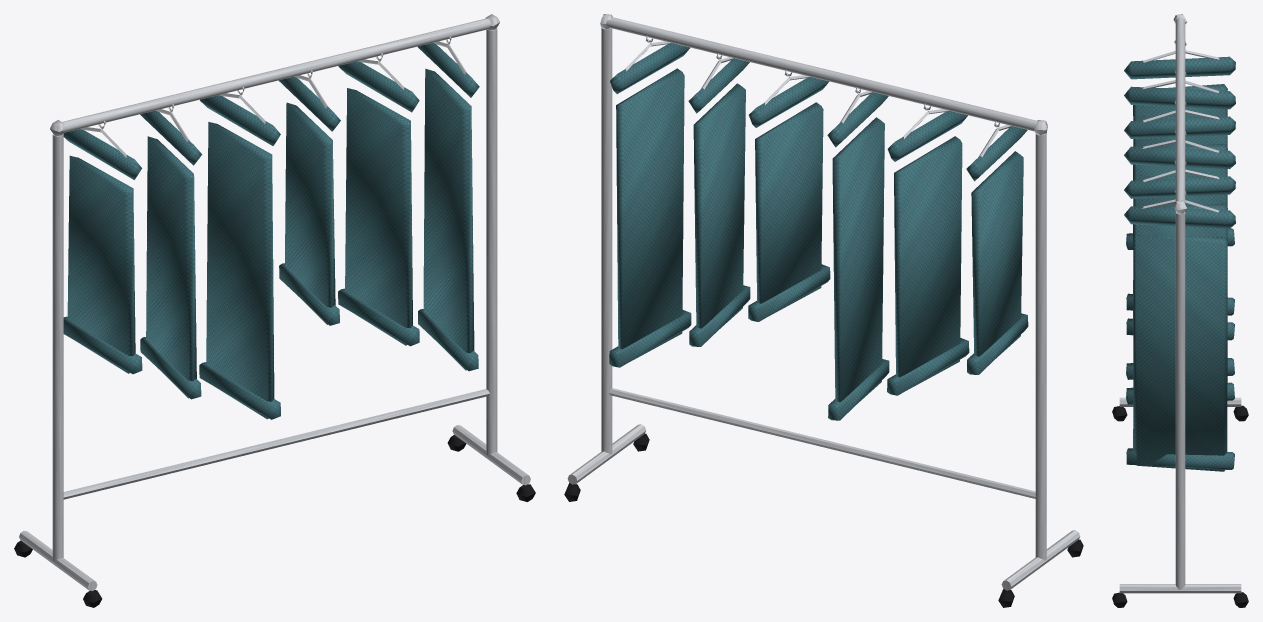
Rendered from arara-16-6-leve.glb.
3 views of the same model, side by side, from view 1: azimuth 30°, elevation 25°; view 2: azimuth 150°, elevation 25°; view 3: azimuth 270°, elevation 25° (orthographic). The views are drawn at different scales.
Visible parts, largest first — view 1: corpo.002, corpo.004, corpo.005, corpo, corpo.001, corpo.003, varao, coluna, coluna.001, travessa, ombros.002, ombros.004 (+12 smaller); view 2: corpo.005, corpo.001, corpo.002, corpo.003, corpo.004, corpo, varao, coluna, coluna.001, travessa, ombros.005, ombros.001 (+12 smaller); view 3: corpo.005, coluna.001, varao, ombros.002, ombros.004, ombros.003, ombros.005, ombros.001, ombros, pe.001, barra.005, corpo.004 (+10 smaller).
Part boxes in pixels (left/top/right/bottom): corpo.002: left=206, top=122, right=274, bottom=419; corpo.004: left=345, top=88, right=412, bottom=345; corpo.005: left=423, top=68, right=474, bottom=370; corpo: left=67, top=155, right=135, bottom=373; corpo.001: left=146, top=136, right=196, bottom=398; corpo.003: left=285, top=102, right=335, bottom=324; varao: left=62, top=18, right=490, bottom=132; coluna: left=52, top=134, right=63, bottom=561; coluna.001: left=486, top=28, right=497, bottom=455; travessa: left=63, top=389, right=489, bottom=499; ombros.002: left=200, top=95, right=280, bottom=145; ombros.004: left=338, top=61, right=419, bottom=112; corpo.005: left=616, top=68, right=684, bottom=361; corpo.001: left=894, top=136, right=962, bottom=387; corpo.002: left=832, top=117, right=884, bottom=402; corpo.003: left=755, top=102, right=823, bottom=314; corpo.004: left=693, top=83, right=745, bottom=328; corpo: left=971, top=151, right=1023, bottom=358; varao: left=606, top=17, right=1037, bottom=131; coluna: left=1035, top=133, right=1046, bottom=560; coluna.001: left=601, top=27, right=612, bottom=454; travessa: left=608, top=388, right=1035, bottom=498; ombros.005: left=610, top=43, right=689, bottom=93; ombros.001: left=887, top=111, right=967, bottom=161; corpo.005: left=1133, top=235, right=1227, bottom=471; coluna.001: left=1175, top=212, right=1185, bottom=589; varao: left=1175, top=18, right=1185, bottom=204; ombros.002: left=1124, top=116, right=1235, bottom=138; ombros.004: left=1124, top=176, right=1235, bottom=198; ombros.003: left=1124, top=146, right=1235, bottom=169; ombros.005: left=1124, top=206, right=1235, bottom=228; ombros.001: left=1124, top=86, right=1235, bottom=109; ombros: left=1124, top=56, right=1235, bottom=79; pe.001: left=1119, top=584, right=1241, bottom=593; barra.005: left=1126, top=448, right=1234, bottom=469; corpo.004: left=1133, top=203, right=1227, bottom=241.
Bounding box in the file's own units: 1.66 × 1.62 × 0.4957.
3 materials, 2 textured.
